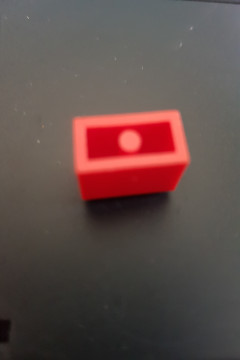1x2 red: (71, 110, 191, 200)
